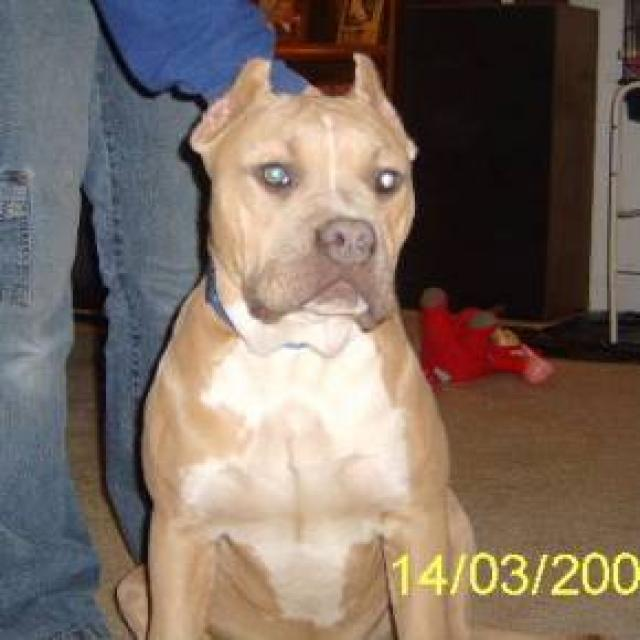dog-american_pit_bull_terrier: (108, 47, 488, 636)
